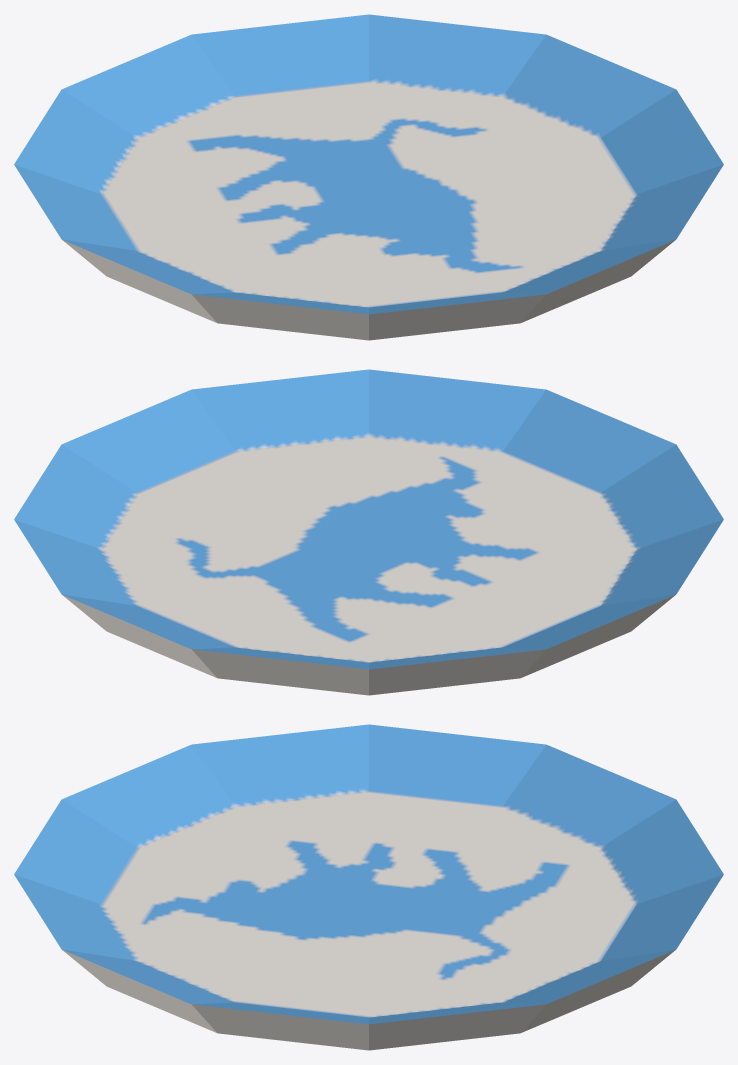
Rendered from plate.glb.
3 renders of one model, top to bottom at view 1: azimuth 30°, elevation 25°; view 2: azimuth 150°, elevation 25°; view 3: azimuth 270°, elevation 25°, orthographic.
Visible parts, largest first — view 1: Plate; view 2: Plate; view 3: Plate.
Boxes of the visible parts, box(x1,y1,x2,y2) form: Plate: box(14, 14, 723, 340); Plate: box(14, 369, 723, 695); Plate: box(14, 724, 723, 1050).
Size of the model in its own units: 1 by 0.0747 by 1.
Materials: 1 (1 with a texture image).
